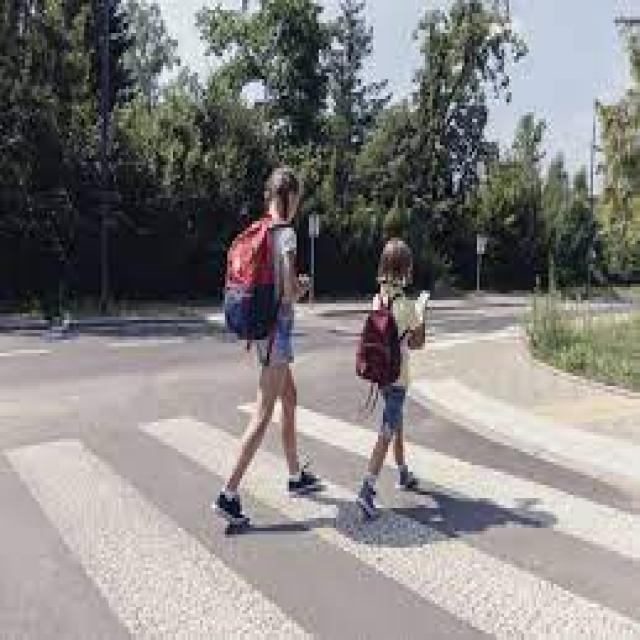Person: (215, 165, 323, 525), (351, 239, 429, 519)
